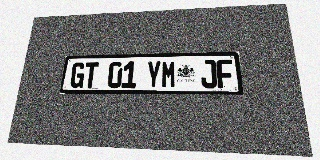0: (107, 62, 123, 88)
1: (121, 61, 137, 88)
F: (216, 59, 234, 88)
G: (69, 62, 86, 88)
J: (200, 60, 217, 88)
M: (161, 61, 176, 88)
T: (83, 62, 99, 88)
Y: (146, 61, 161, 88)
